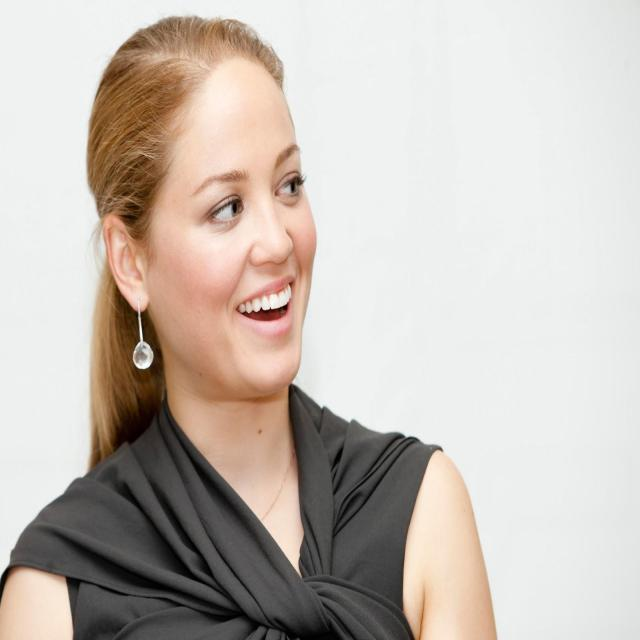no-earmuff: (92, 202, 167, 336)
